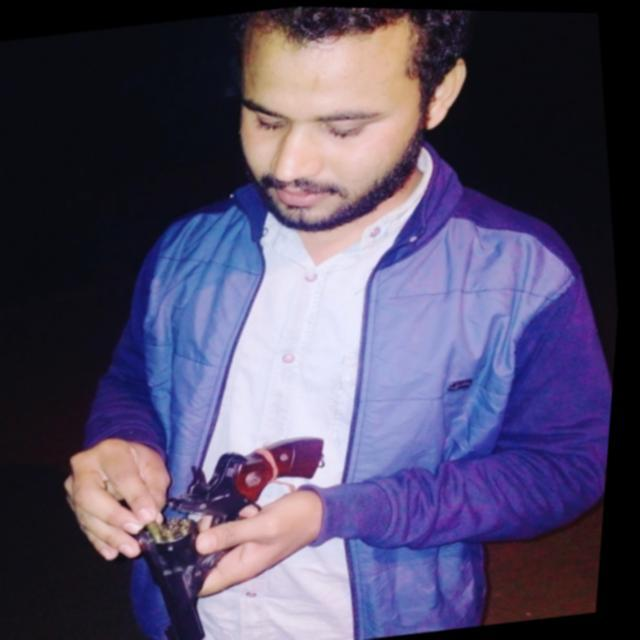weapon: (112, 427, 362, 640)
